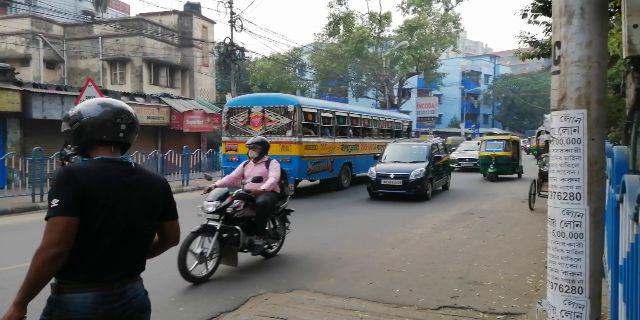Autorickshaw: (481, 136, 521, 179)
Bus: (223, 96, 414, 183)
Car: (365, 139, 455, 199)
Motorbike: (182, 140, 299, 280)
